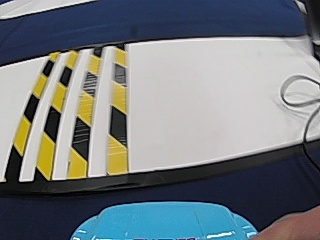bump: (13, 58, 133, 174)
